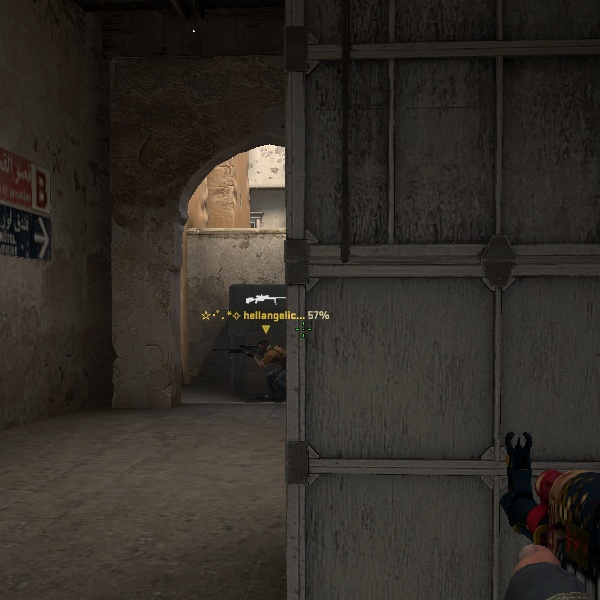t_body: (248, 334, 290, 401)
t_head: (253, 337, 273, 355)
